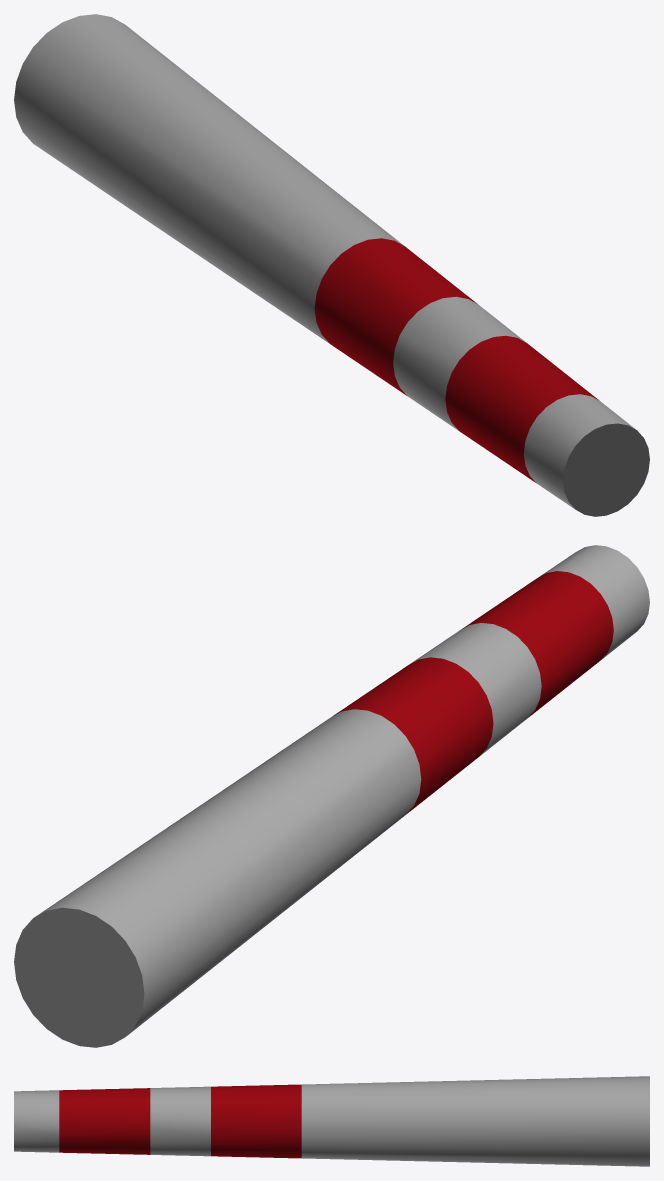
Rendered from chimney_tower.dae.
3 renders of one model, top to bottom at view 1: azimuth 30°, elevation 25°; view 2: azimuth 150°, elevation 25°; view 3: azimuth 270°, elevation 25°, orthographic. The views are drawn at different scales.
Parts seen in each view (by area): view 1: coords_ME_ID17_MA_material_24, coords_ME_ID11_MA_material_7, coords_ME_ID3_MA_material_7, coords_ME_ID39_MA_material_24, coords_ME_ID25_MA_material, coords_ME_ID33_MA_material_24; view 2: coords_ME_ID17_MA_material_24, coords_ME_ID11_MA_material_7, coords_ME_ID3_MA_material_7, coords_ME_ID39_MA_material_24, coords_ME_ID33_MA_material_24; view 3: coords_ME_ID17_MA_material_24, coords_ME_ID11_MA_material_7, coords_ME_ID3_MA_material_7, coords_ME_ID39_MA_material_24, coords_ME_ID33_MA_material_24.
Boxes of the visible parts, box(x1,y1,x2,y2) form: coords_ME_ID17_MA_material_24: box(14, 14, 403, 343); coords_ME_ID11_MA_material_7: box(314, 238, 477, 395); coords_ME_ID3_MA_material_7: box(445, 335, 599, 482); coords_ME_ID39_MA_material_24: box(393, 296, 526, 430); coords_ME_ID25_MA_material: box(563, 423, 649, 516); coords_ME_ID33_MA_material_24: box(524, 394, 635, 508); coords_ME_ID17_MA_material_24: box(14, 709, 421, 1047); coords_ME_ID11_MA_material_7: box(332, 657, 493, 813); coords_ME_ID3_MA_material_7: box(461, 571, 613, 717); coords_ME_ID39_MA_material_24: box(409, 623, 541, 756); coords_ME_ID33_MA_material_24: box(539, 545, 649, 659); coords_ME_ID17_MA_material_24: box(301, 1076, 649, 1166); coords_ME_ID11_MA_material_7: box(211, 1084, 301, 1158); coords_ME_ID3_MA_material_7: box(59, 1088, 150, 1154); coords_ME_ID39_MA_material_24: box(150, 1086, 210, 1156); coords_ME_ID33_MA_material_24: box(14, 1090, 59, 1152).
Size of the model in its own units: 35.43 by 35.43 by 248.
